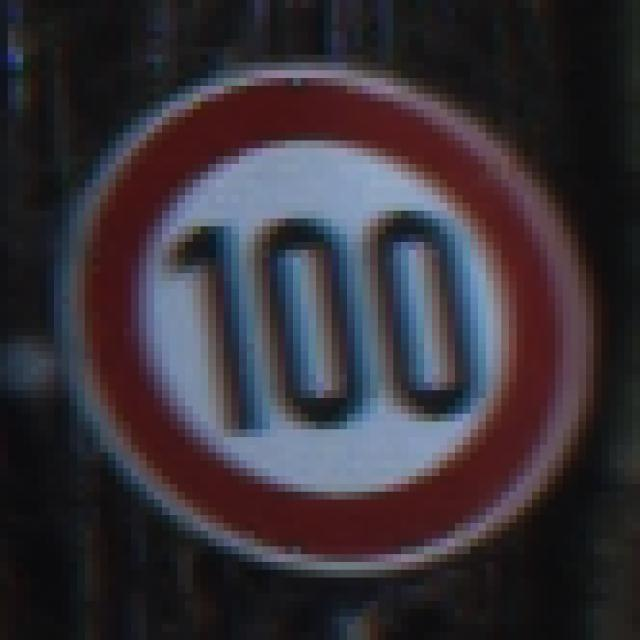speed limit 100: (52, 61, 603, 582)
